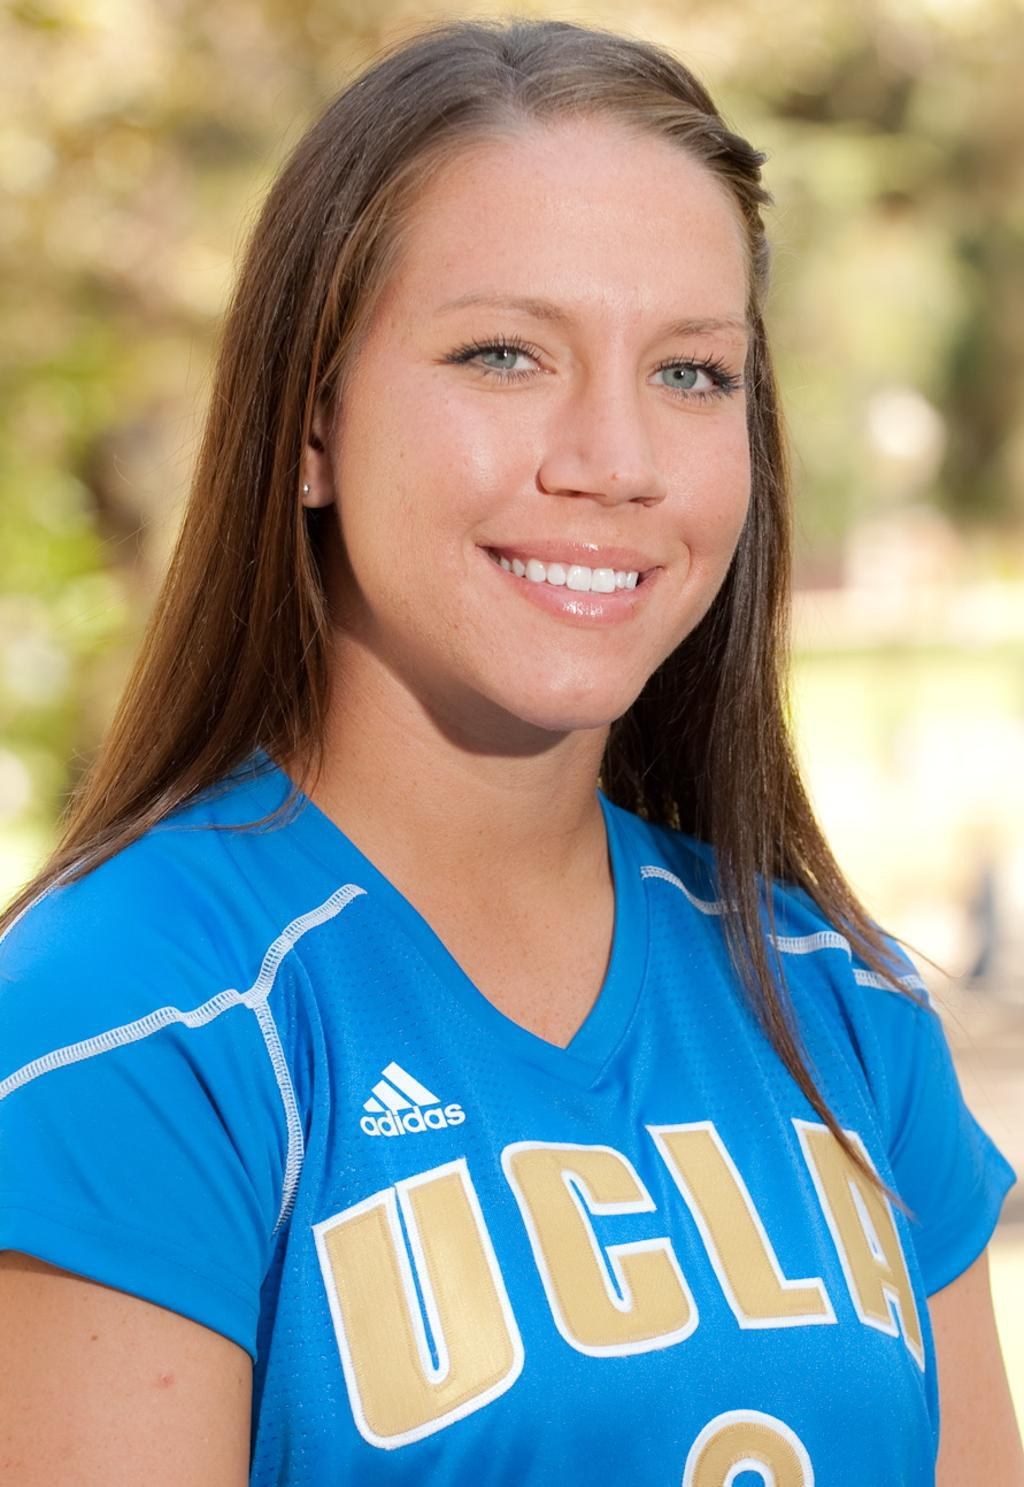face: (343, 132, 752, 721)
